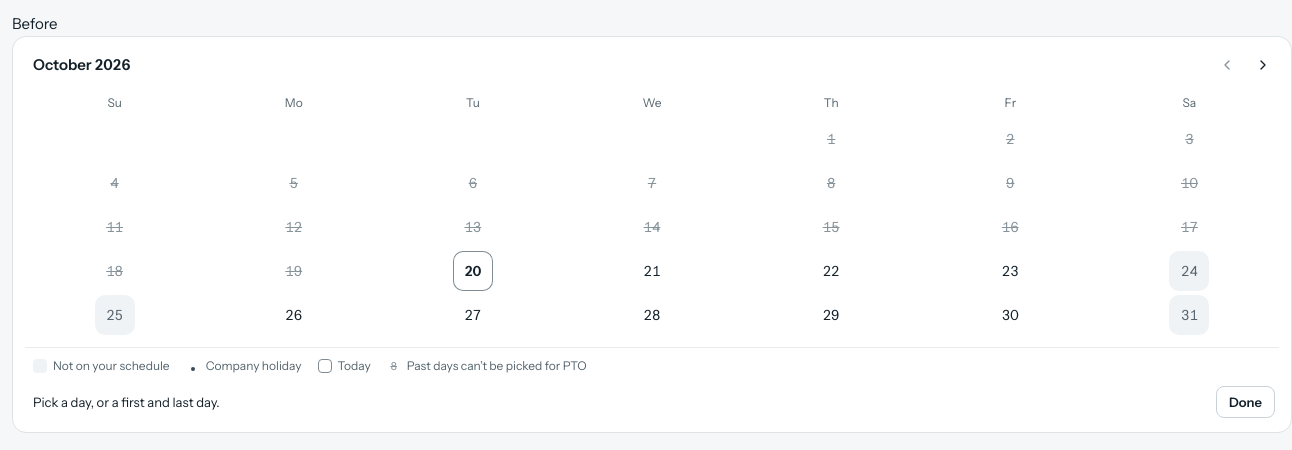
it: DatePicker choosing days › ends the range with a later day
Click the button "23": x=1010, y=271 [990,251,1030,291]
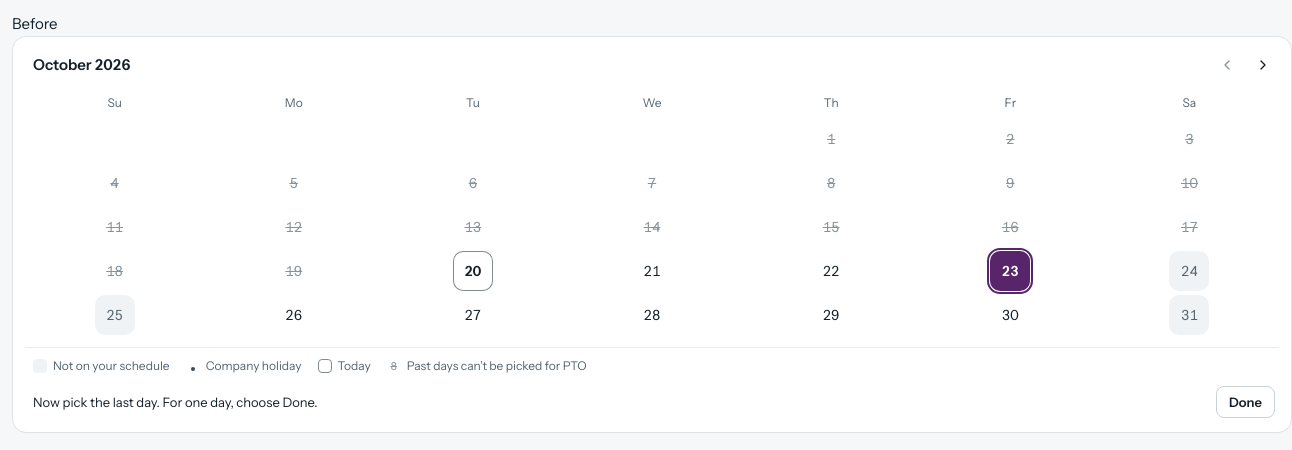
Click the button "27": x=473, y=315 [453,295,493,335]
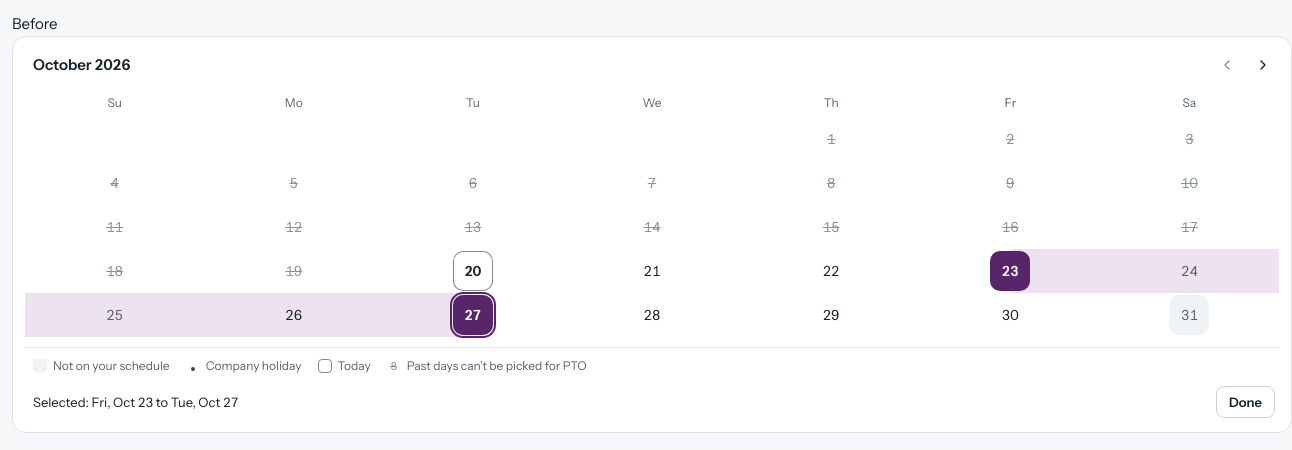
Expected: the text "Selected: Fri, Oct 23 to Tue, Oct 27" is shown, [33,392,238,412]
